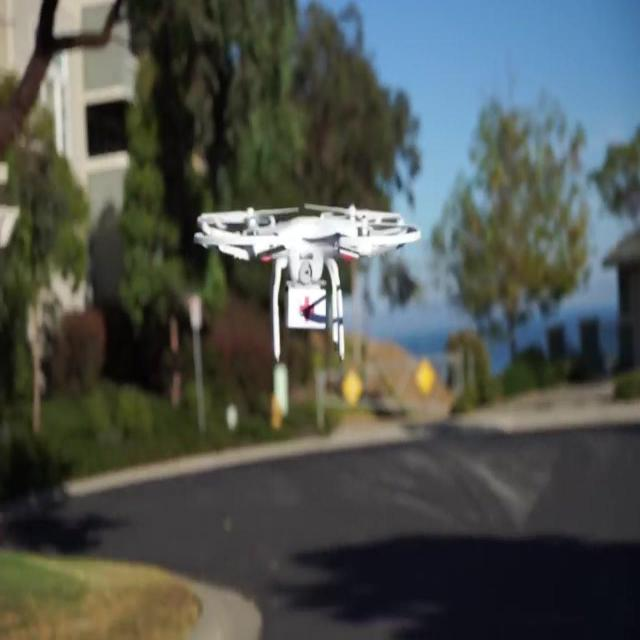UAV: (193, 202, 422, 364)
